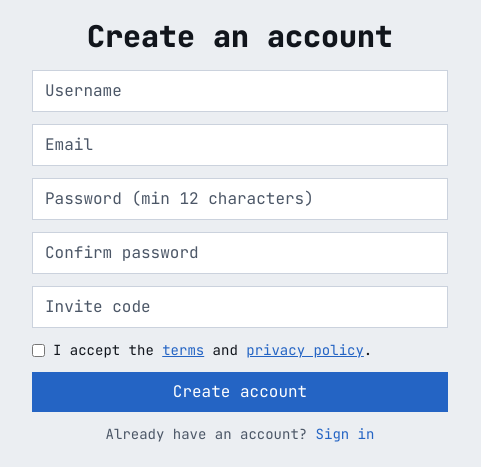
Scenario: RegisterPage › shows success screen on 200 response
Type "newuser" into the field with placeholder "Username" at (240, 91), box [32,70,448,112]
Type "new@example.com" into the field with placeholder "Email" at (240, 145), box [32,124,448,166]
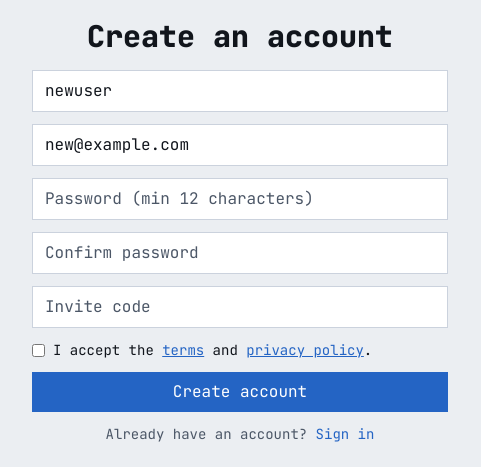
Type "longpassword12" into the password field with placeholder "Password (min 12 characters)" at (240, 199), box [32,178,448,220]
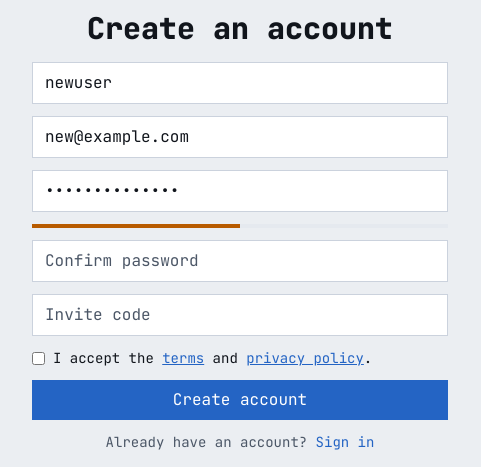
Type "longpassword12" into the password field with placeholder "Confirm password" at (240, 261), box [32,240,448,282]
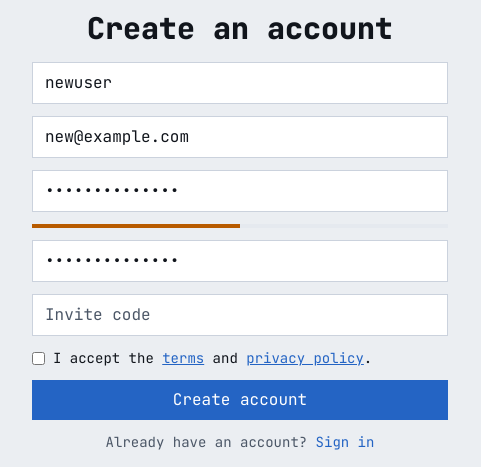
Type "abc123" into the field with placeholder "Invite code" at (240, 315), box [32,294,448,336]
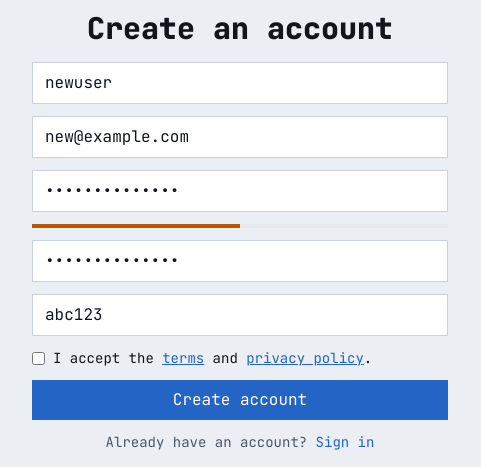
Click the checkbox at (38, 358), box [32,352,45,365]
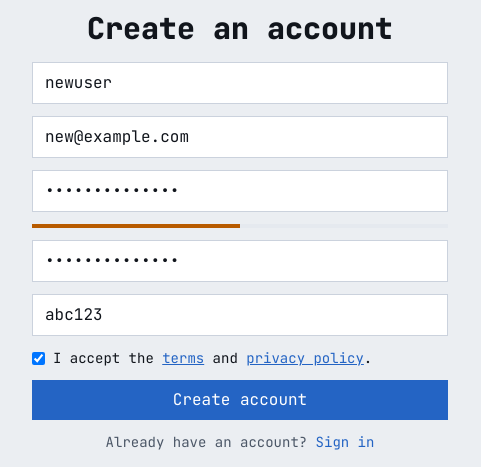
Click the button "Create account" at (240, 400), box [32,380,448,420]
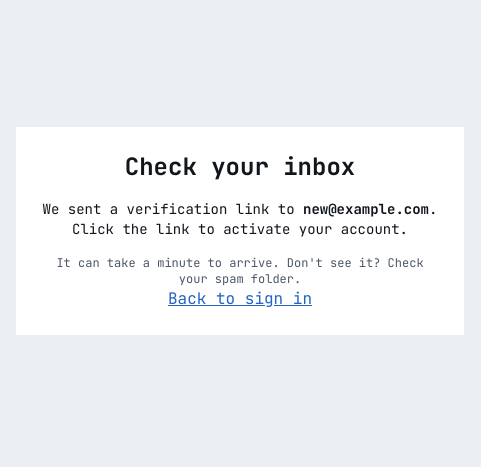
expect the heading "Check your inbox" is shown: met, box [125,151,355,182]
